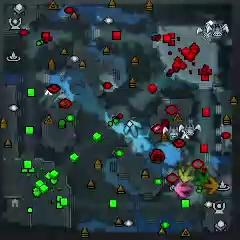x1: (174, 182, 192, 197)
x2: (178, 165, 194, 183)
x3: (124, 120, 141, 138)
x4: (195, 169, 211, 186)
x5: (204, 178, 220, 194)
